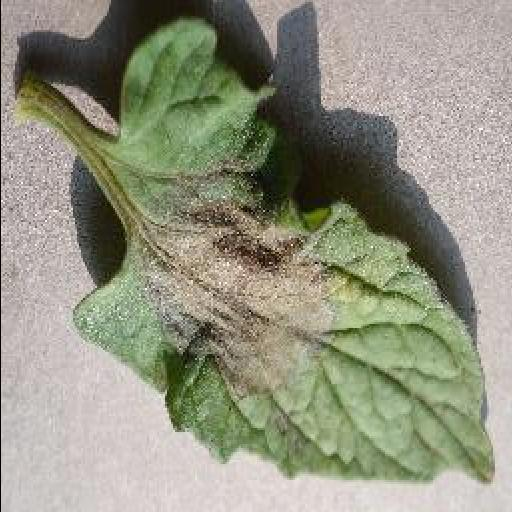disease_tomato: (70, 16, 500, 486)
